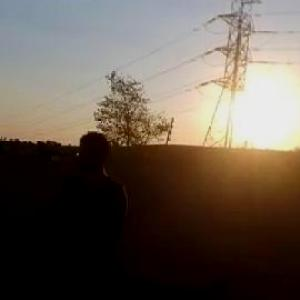follow: (44, 121, 140, 299)
